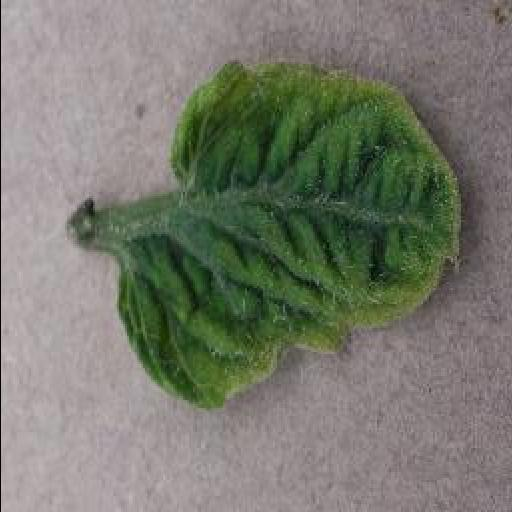disease_tomato: (112, 59, 466, 411)
